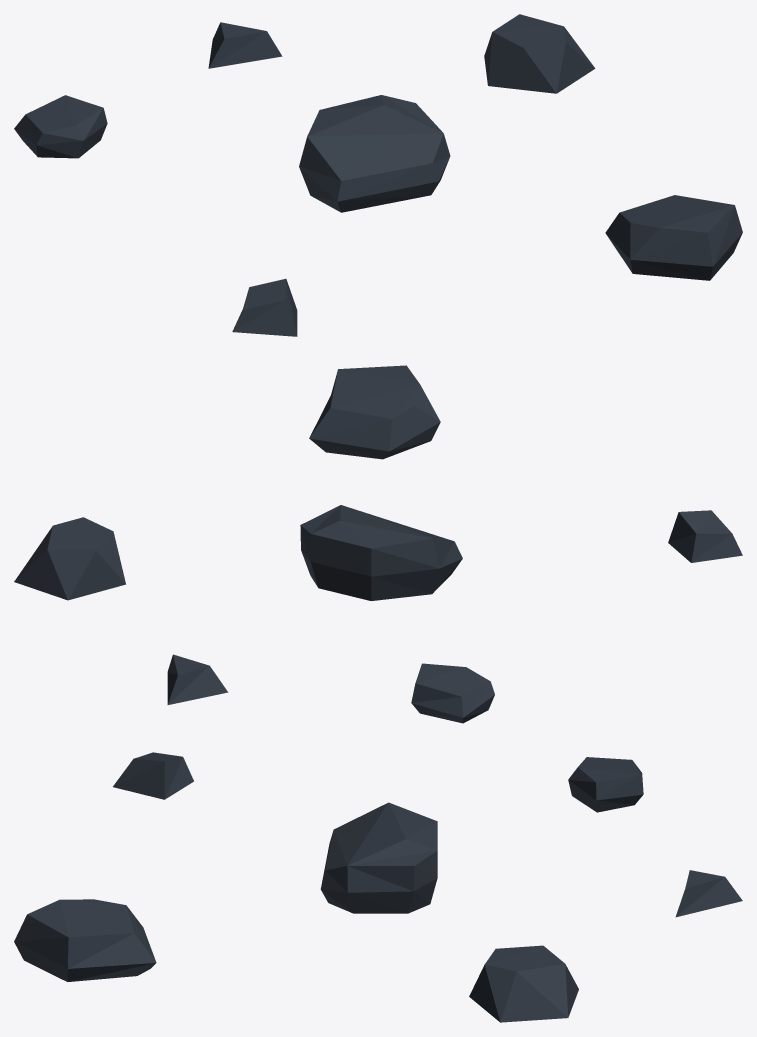
File: TB_Env_Stone_Set3_A.FBX
3 renders of one model, top to bottom at view 1: azimuth 30°, elevation 25°; view 2: azimuth 150°, elevation 25°; view 3: azimuth 270°, elevation 25°, orthographic. The views are drawn at different scales.
Parts seen in each view (by area): view 1: TB_Env_Stone_Set3_A; view 2: TB_Env_Stone_Set3_A; view 3: TB_Env_Stone_Set3_A.
Part boxes in pixels (box(x1,y1,x2,y2)): TB_Env_Stone_Set3_A: box(14, 14, 742, 336); TB_Env_Stone_Set3_A: box(14, 365, 742, 723); TB_Env_Stone_Set3_A: box(14, 752, 742, 1022).
Bounding box in the file's own units: 2.75 × 0.3027 × 3.3.
